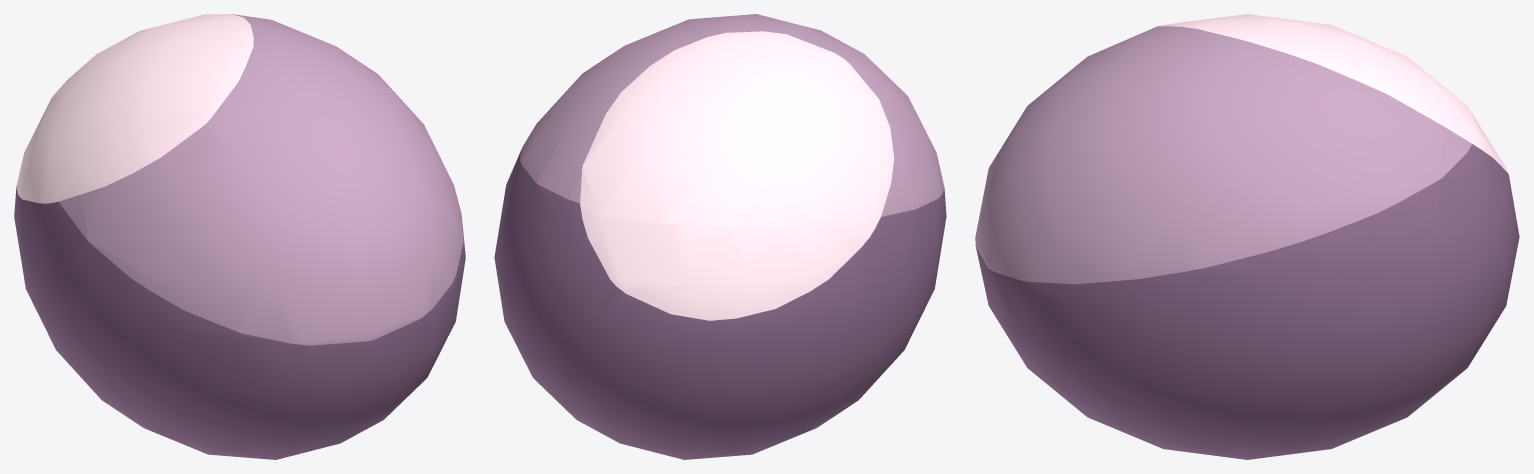
Rendered from purple_grape.glb.
3 renders of one model, left to right at view 1: azimuth 30°, elevation 25°; view 2: azimuth 150°, elevation 25°; view 3: azimuth 270°, elevation 25°, orthographic. The views are drawn at different scales.
Visible parts, largest first — view 1: purple_grape; view 2: purple_grape; view 3: purple_grape.
Boxes of the visible parts, x1,y1,x2,y2 form: purple_grape: (14,14,465,459); purple_grape: (494,14,946,459); purple_grape: (975,14,1519,459).
Bounding box in the file's own units: 4.1 × 4.2 × 5.1.
